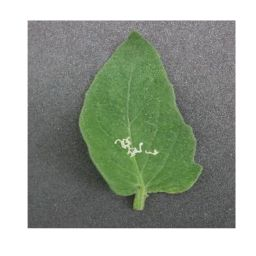liriomyza: (114, 136, 159, 157)
